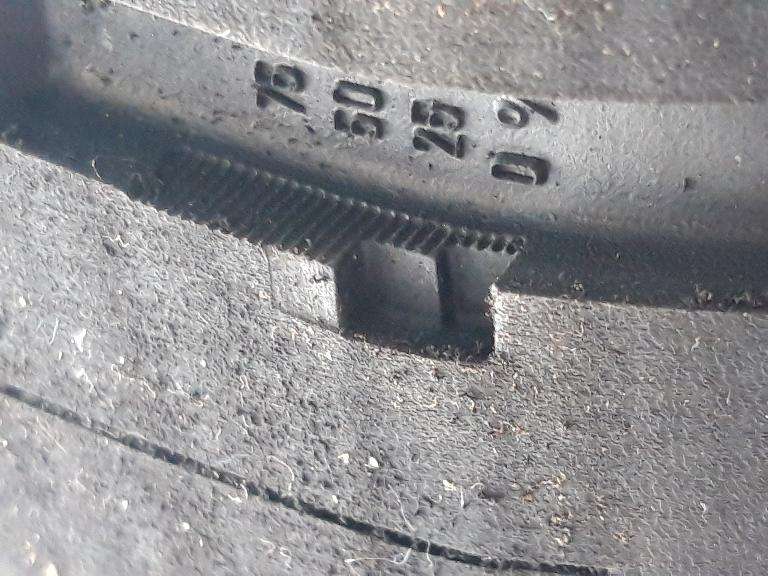temoin:50: (255, 189, 544, 381)
